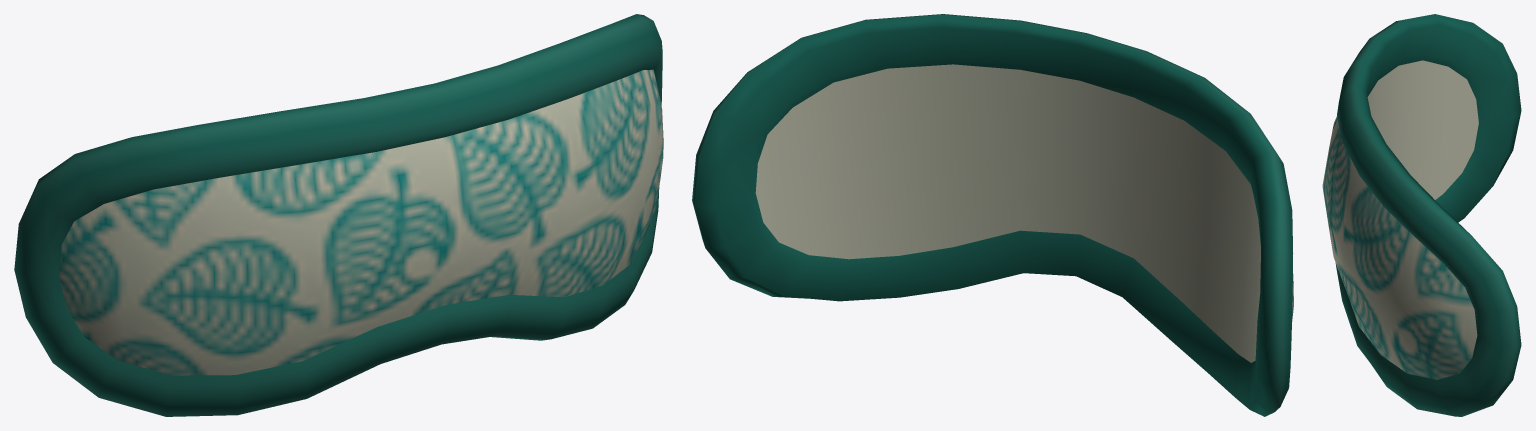
File: AccessoryGlassNook0.glb
3 views of the same model, side by side, from view 1: azimuth 30°, elevation 25°; view 2: azimuth 150°, elevation 25°; view 3: azimuth 270°, elevation 25° (orthographic). The views are drawn at different scales.
Visible parts, largest first — view 1: Accessory__mAccessory; view 2: Accessory__mAccessory; view 3: Accessory__mAccessory.
Part boxes in pixels (left/top/right/bottom): Accessory__mAccessory: left=14, top=14, right=663, bottom=416; Accessory__mAccessory: left=692, top=14, right=1293, bottom=416; Accessory__mAccessory: left=1322, top=14, right=1521, bottom=416.
Size of the model in its own units: 6.32 by 2.93 by 2.21.
Materials: 1 (1 with a texture image).
